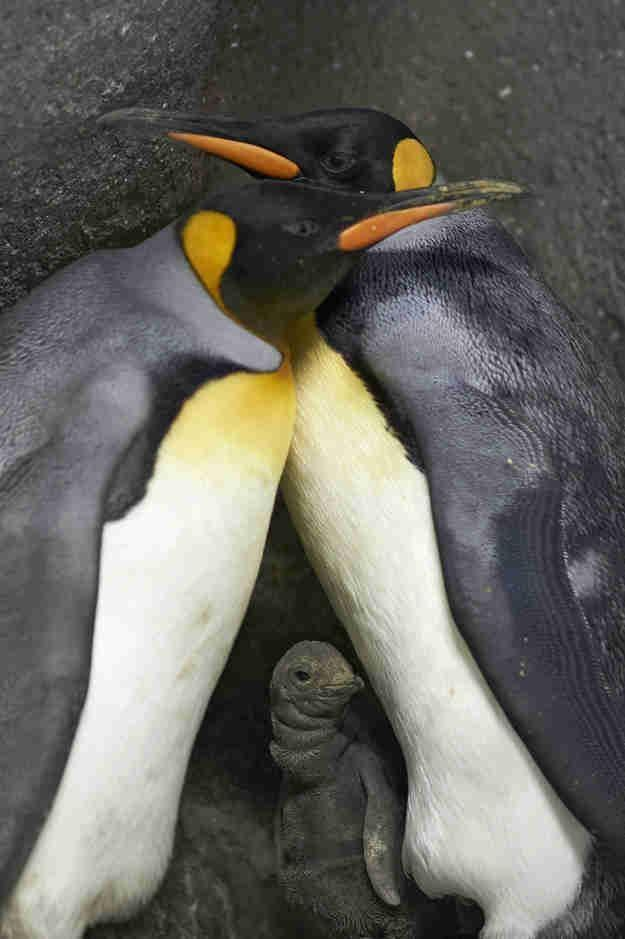Penguin: (0, 176, 535, 937), (286, 209, 623, 937), (270, 642, 409, 938), (167, 106, 437, 196)
